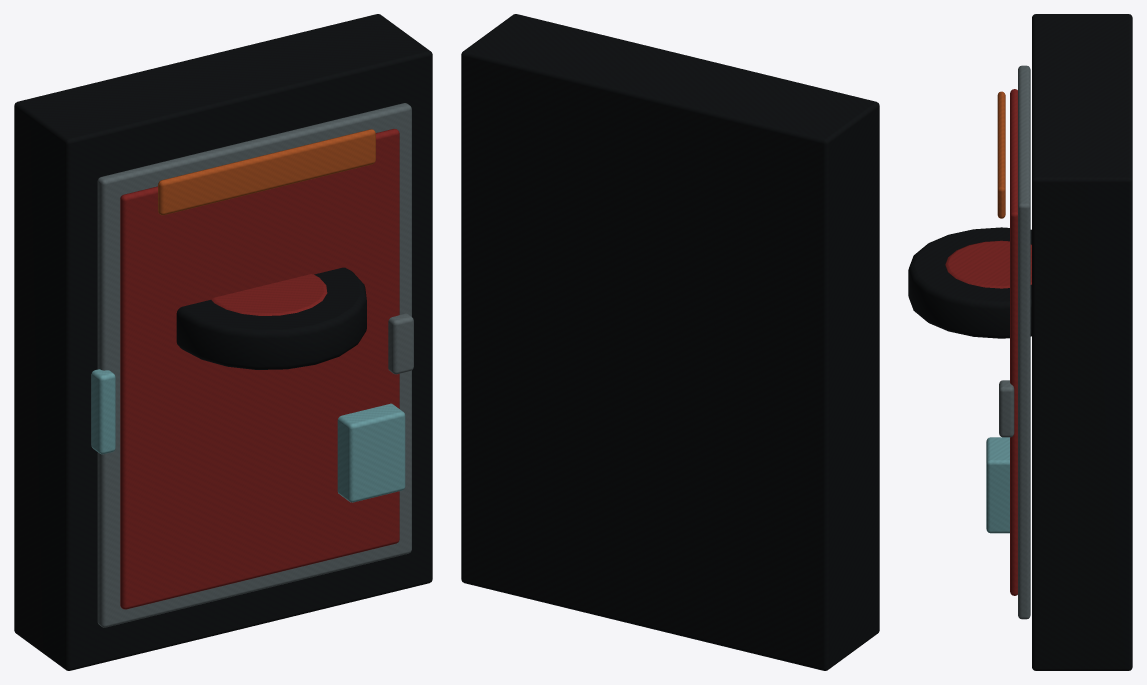
Rendered from WallFireHose.fbx.
3 renders of one model, left to right at view 1: azimuth 30°, elevation 25°; view 2: azimuth 150°, elevation 25°; view 3: azimuth 270°, elevation 25°, orthographic. The views are drawn at different scales.
Visible parts, largest first — view 1: WallFireHose_Mesh; view 2: WallFireHose_Mesh; view 3: WallFireHose_Mesh.
Part boxes in pixels (left/top/right/bottom): WallFireHose_Mesh: left=14, top=14, right=432, bottom=670; WallFireHose_Mesh: left=461, top=14, right=879, bottom=670; WallFireHose_Mesh: left=908, top=14, right=1132, bottom=670.
Size of the model in its own units: 78 by 108 by 44.5.
5 materials, 5 textured.
